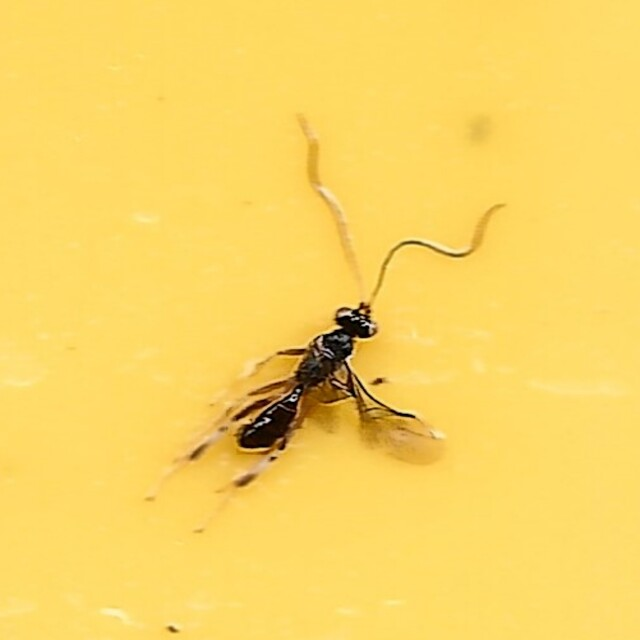Hymenoptera: (128, 108, 512, 532)
